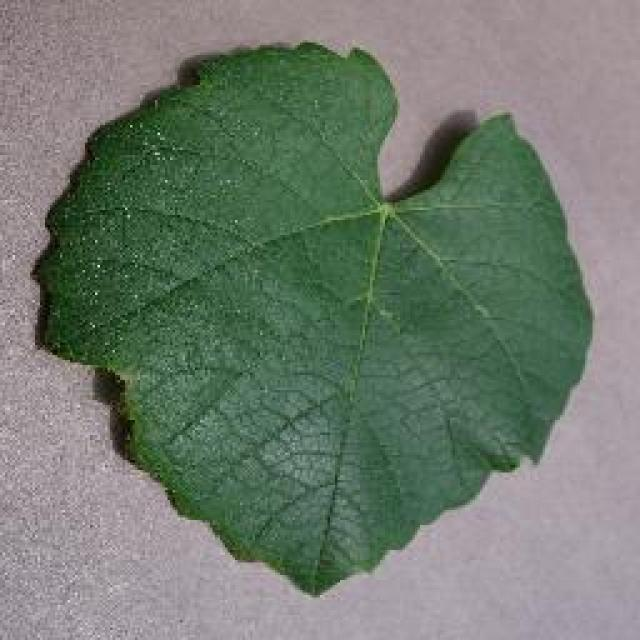Grape___healthy: (40, 45, 590, 590)
